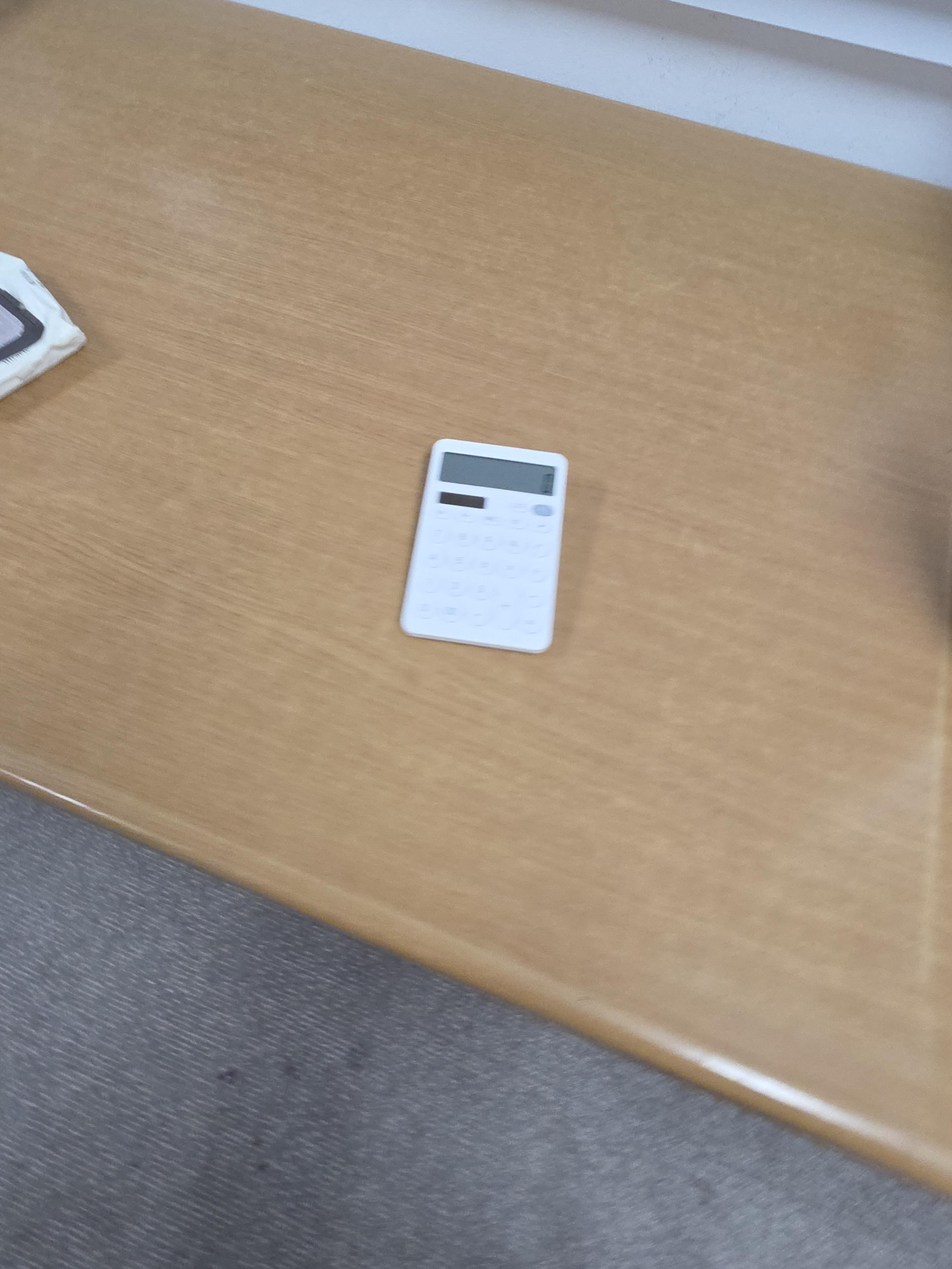calculator: (399, 438, 568, 654)
tissue: (0, 251, 87, 401)
